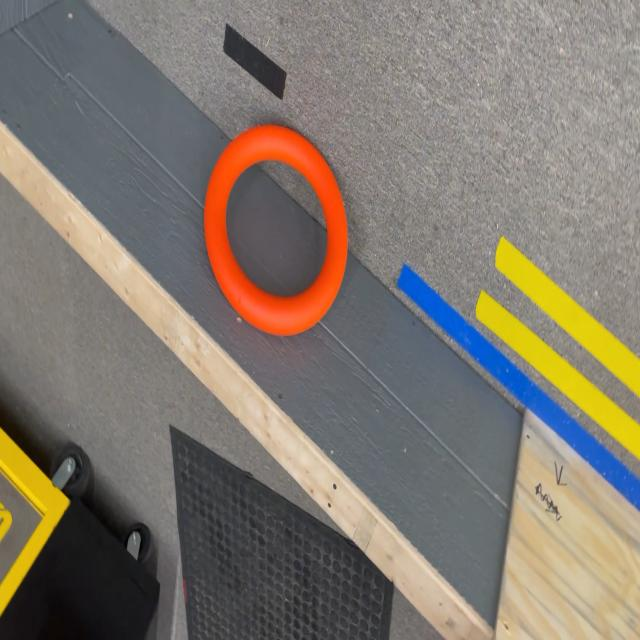note: (204, 126, 348, 336)
